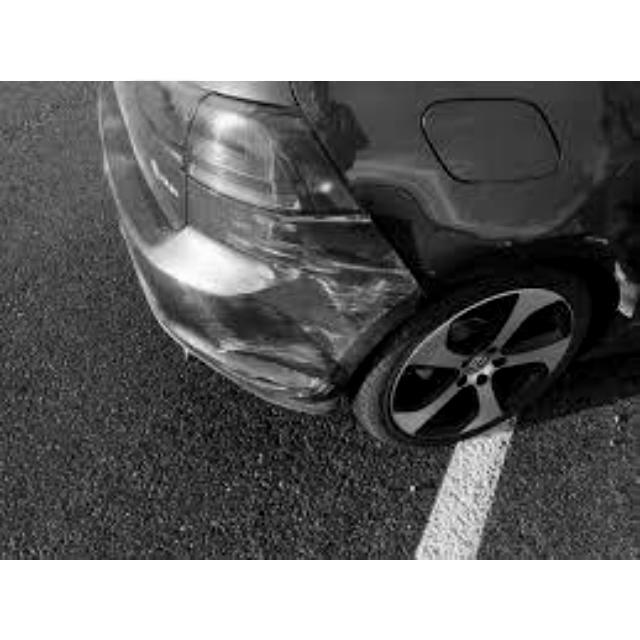rear-bumper-dent: (126, 167, 462, 391)
